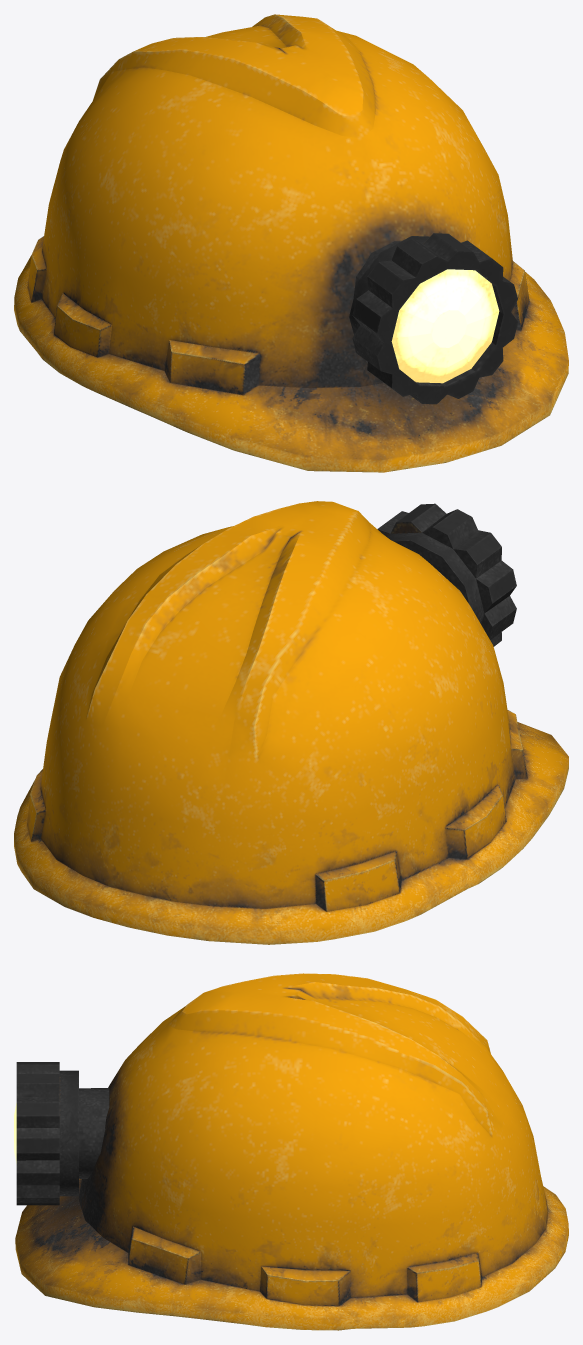
Rendered from workhat.gltf.
3 renders of one model, top to bottom at view 1: azimuth 30°, elevation 25°; view 2: azimuth 150°, elevation 25°; view 3: azimuth 270°, elevation 25°, orthographic. The views are drawn at different scales.
Visible parts, largest first — view 1: Mine_helmet_0; view 2: Mine_helmet_0; view 3: Mine_helmet_0.
Boxes of the visible parts, <box> form: Mine_helmet_0: <box>14,14,568,472</box>; Mine_helmet_0: <box>14,501,568,944</box>; Mine_helmet_0: <box>14,973,568,1330</box>.
Bounding box in the file's own units: 0.3896 × 0.2504 × 0.4845.
Materials: 1 (1 with a texture image).
